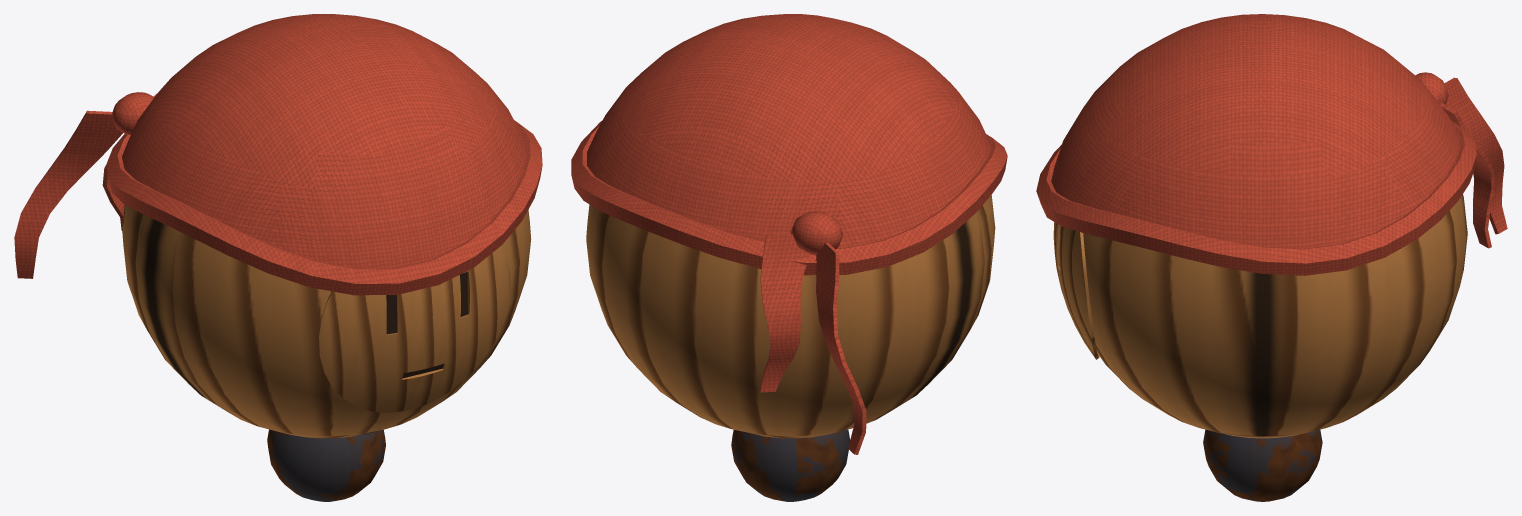
The model's file is Head.glb.
3 renders of one model, left to right at view 1: azimuth 30°, elevation 25°; view 2: azimuth 150°, elevation 25°; view 3: azimuth 270°, elevation 25°, orthographic.
Parts seen in each view (by area): view 1: Bandana, Head, FacePlate; view 2: Bandana, Head; view 3: Bandana, Head, FacePlate.
Boxes of the visible parts, x1,y1,x2,y2 form: Bandana: (14, 14, 542, 295); Head: (122, 205, 531, 501); FacePlate: (319, 246, 510, 412); Bandana: (571, 14, 1007, 454); Head: (586, 195, 995, 501); Bandana: (1036, 14, 1507, 275); Head: (1083, 194, 1467, 501); FacePlate: (1053, 222, 1099, 359).
Bounding box in the file's own units: 0.5199 × 0.598 × 0.5521.
Materials: 6 (5 with a texture image).
